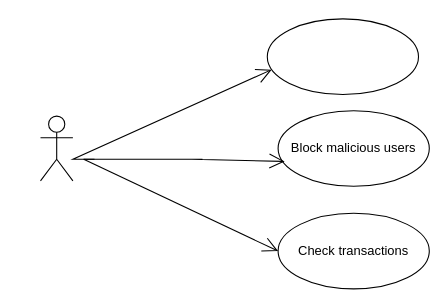
Image size: 448x308. Some labels were removed from this diagram. Each missing label, with the centre of its shape:
"Administartor" goes at [56,148].
"Check users account" goes at [342,56].
